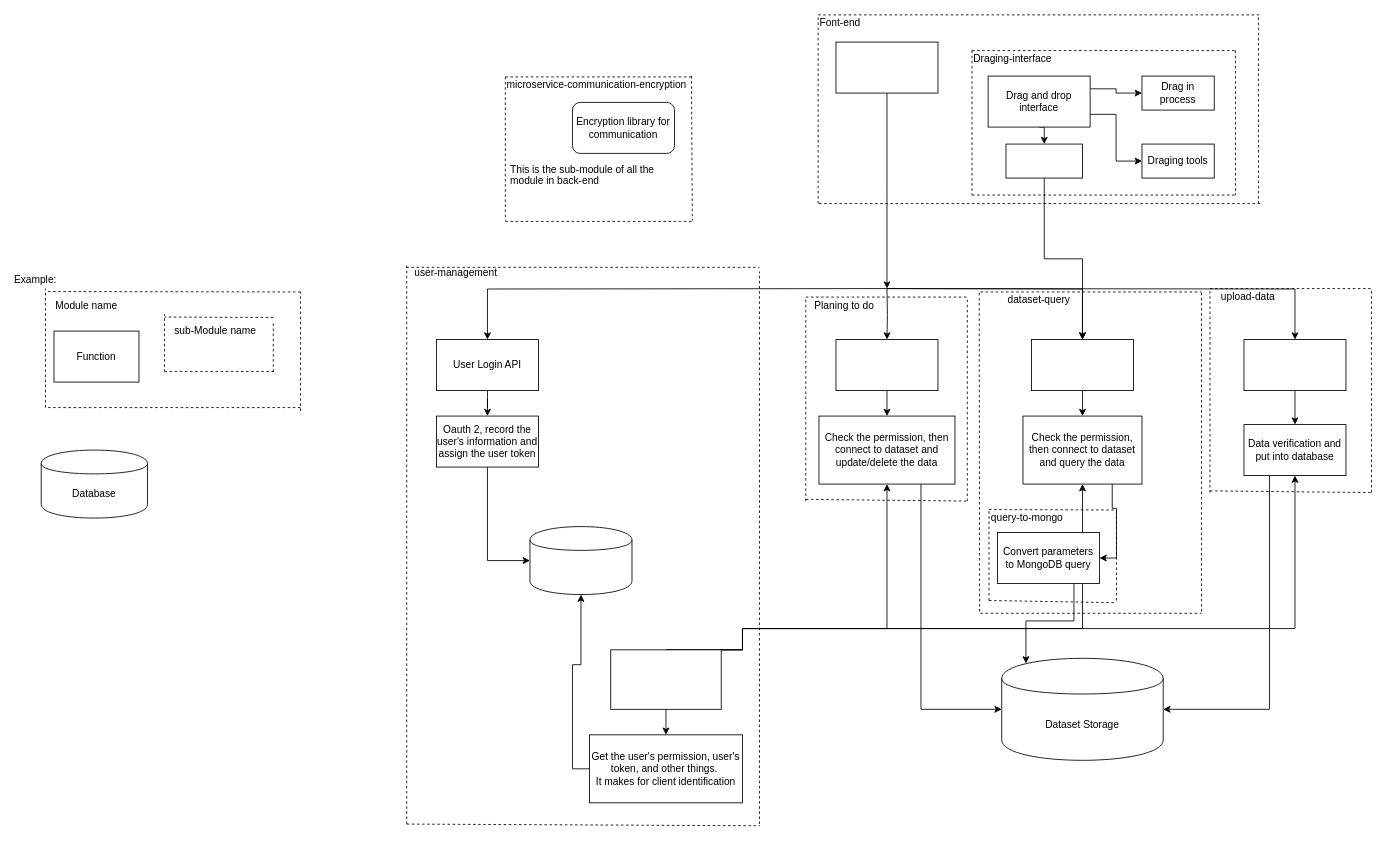
This 1387x842 diagram has some shape labels left out. The shapes that lost their labels are listed below. From the top down, each one's centre as x and y in pixels, then its label:
At (886,67): "Client".
At (1043,160): "Drag in data".
At (886,365): "Dataset Update/Delete".
At (1082,365): "Dataset Query".
At (1294,365): "Uploading dataset".
At (580,560): "Users information database".
At (665,679): "Back end API for getting user's information.".
